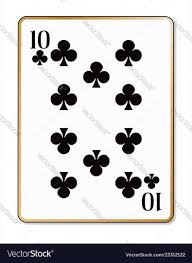ten of clubs: (18, 16, 173, 221)
